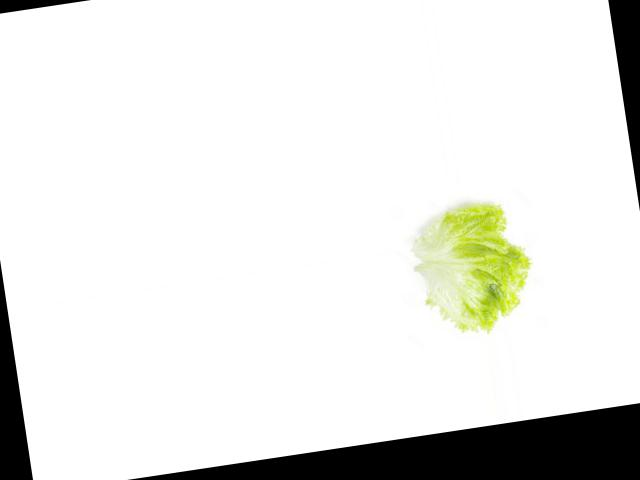lettuce: (385, 183, 551, 352)
